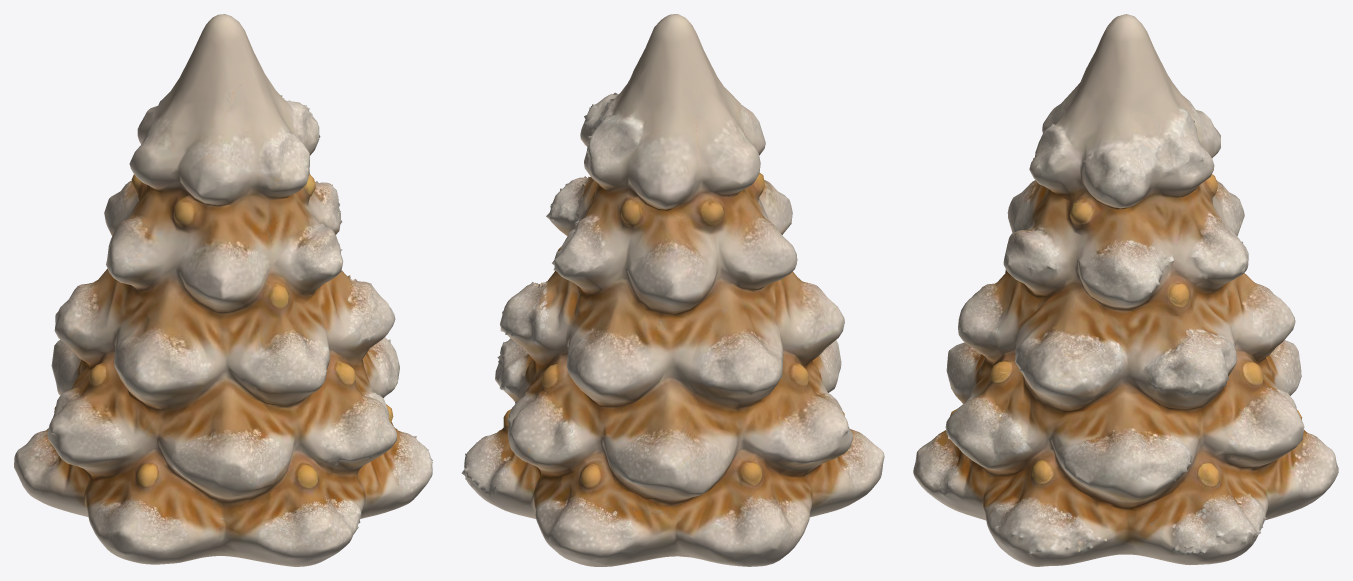
File: fir.glb
3 views of the same model, side by side, from view 1: azimuth 30°, elevation 25°; view 2: azimuth 150°, elevation 25°; view 3: azimuth 270°, elevation 25° (orthographic).
Bounding box in the file's own units: 1.49 × 2 × 1.59.
Materials: 1 (1 with a texture image).
